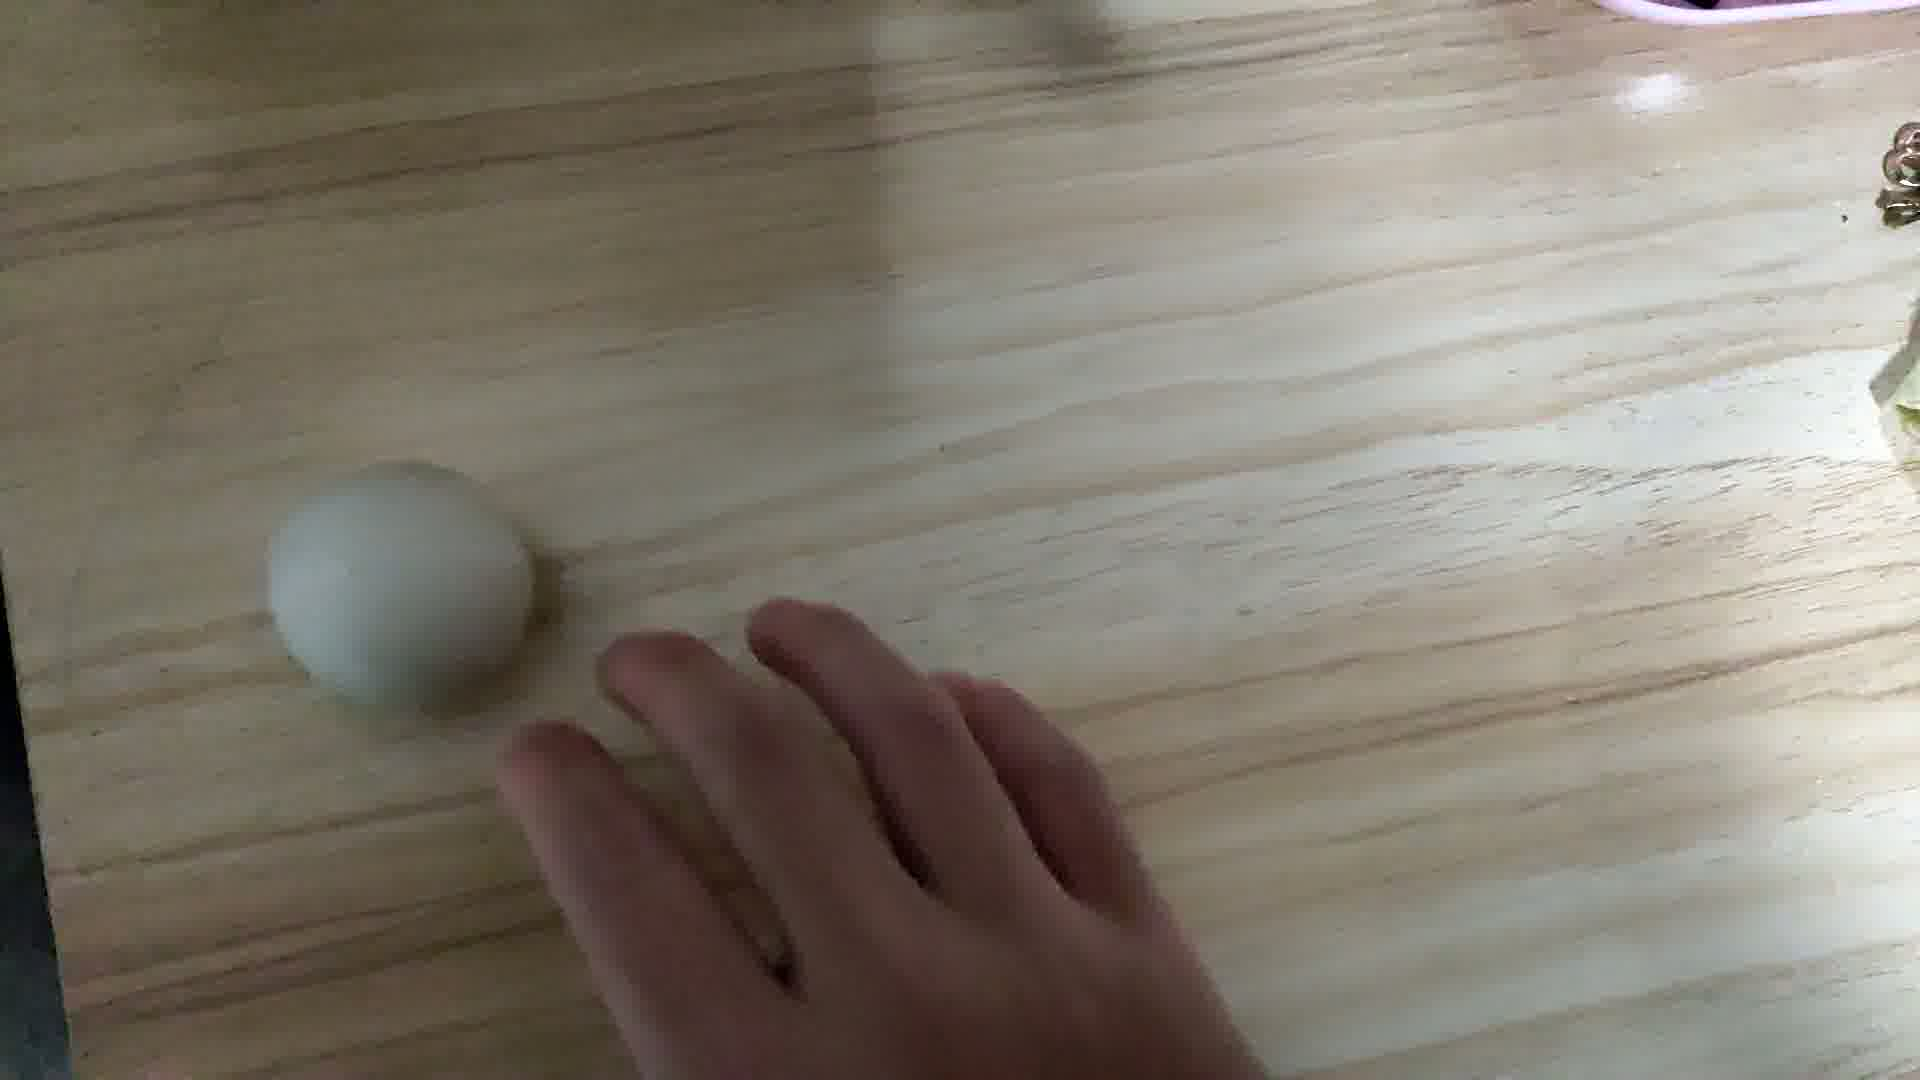Ball: (276, 462, 538, 708)
